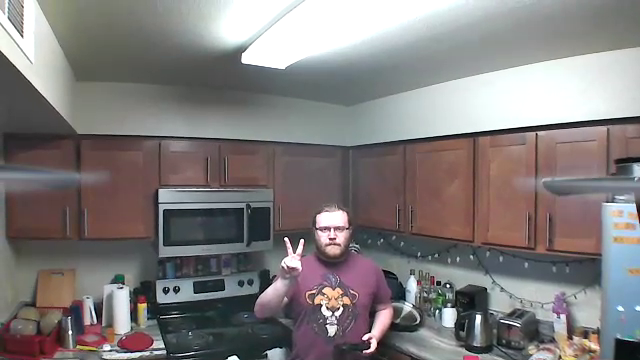peace: (276, 232, 308, 282)
